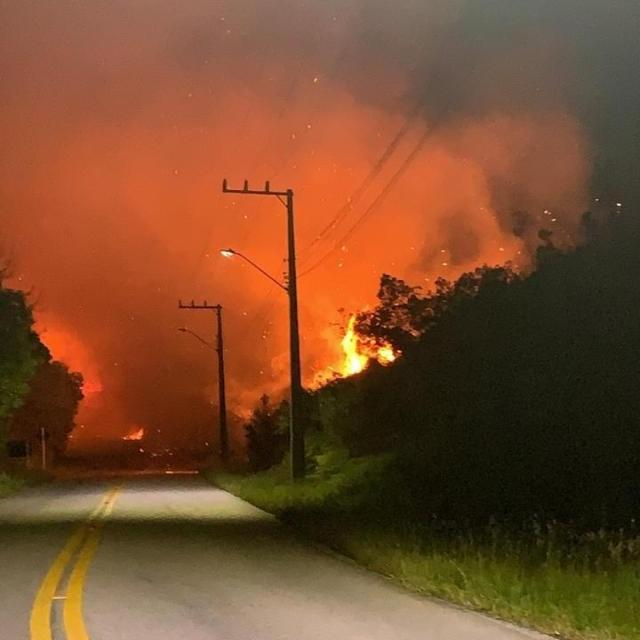Fire: (313, 302, 401, 388), (120, 426, 145, 442)
